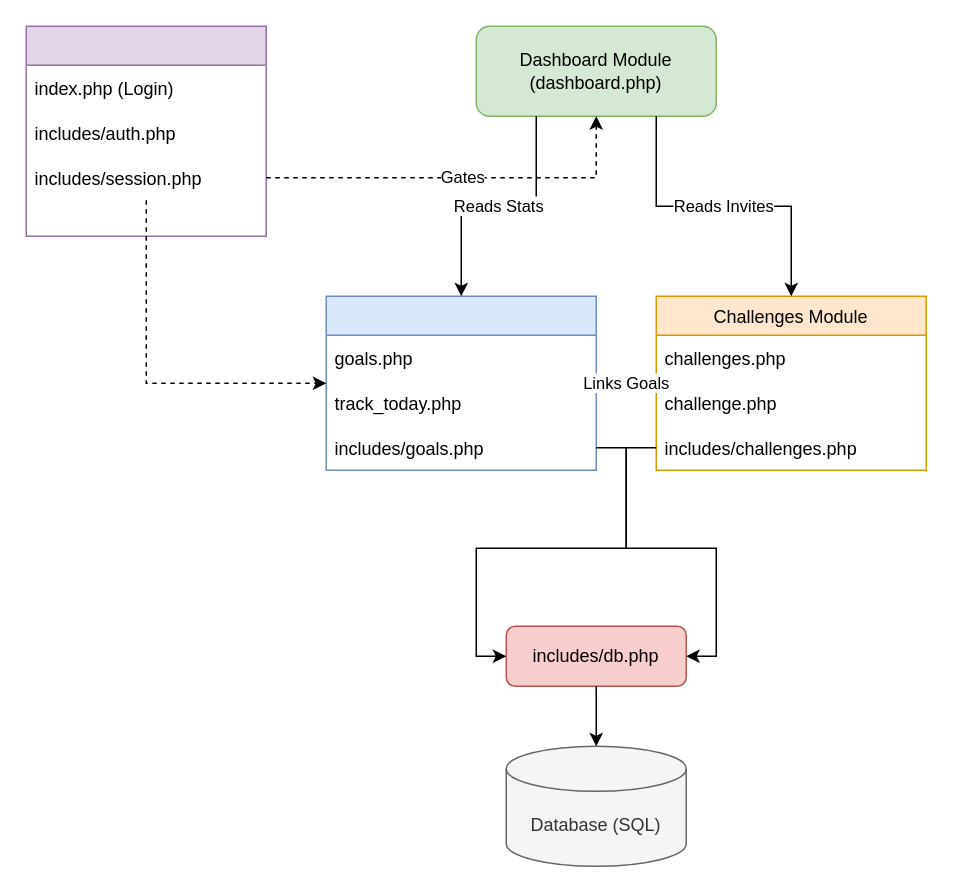
This 953x893 diagram has some shape labels left out. Each missing label, with the box of its shape:
Auth Module: (25, 25, 266, 236)
Goals Module: (325, 295, 596, 470)
